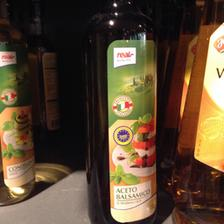Essig: (86, 0, 160, 224), (1, 19, 36, 209)
